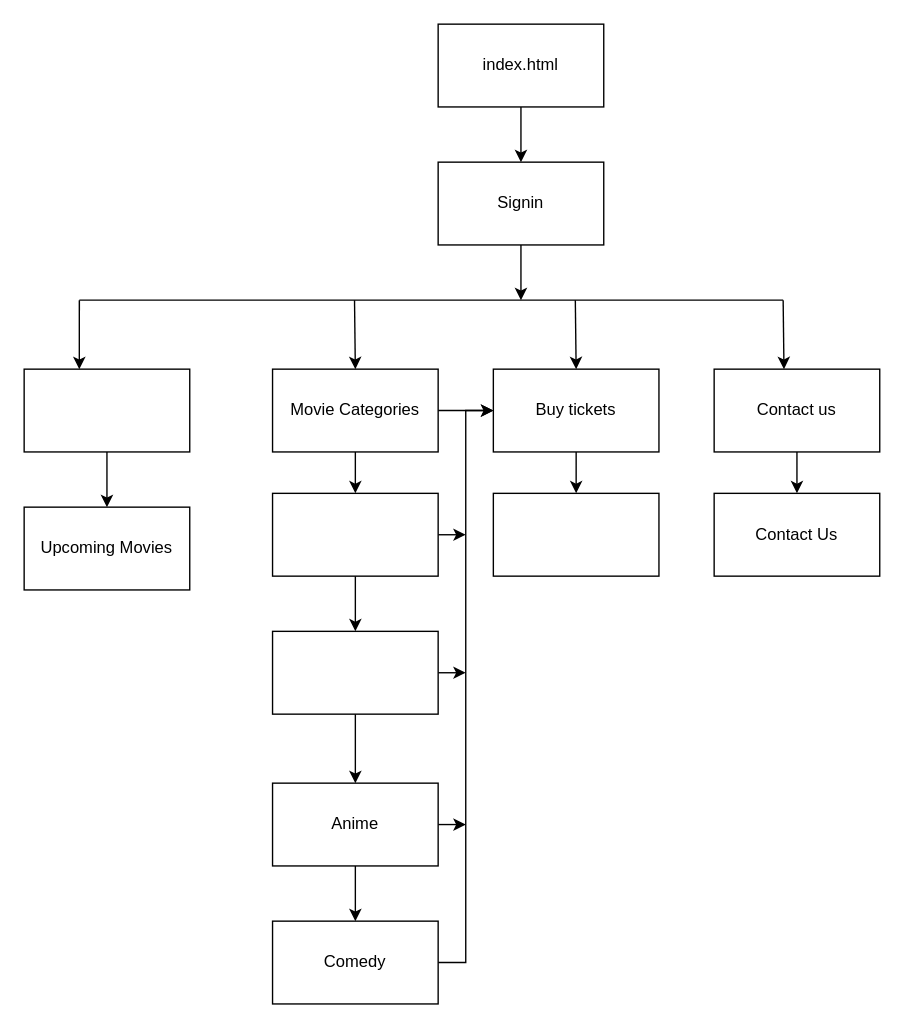
This 904x1028 diagram has some shape labels left out. Each missing label, with the centre of its shape:
Action: the point at 354,534
home: the point at 106,410
Purchase tickets: the point at 575,534
Scifi: the point at 354,672
